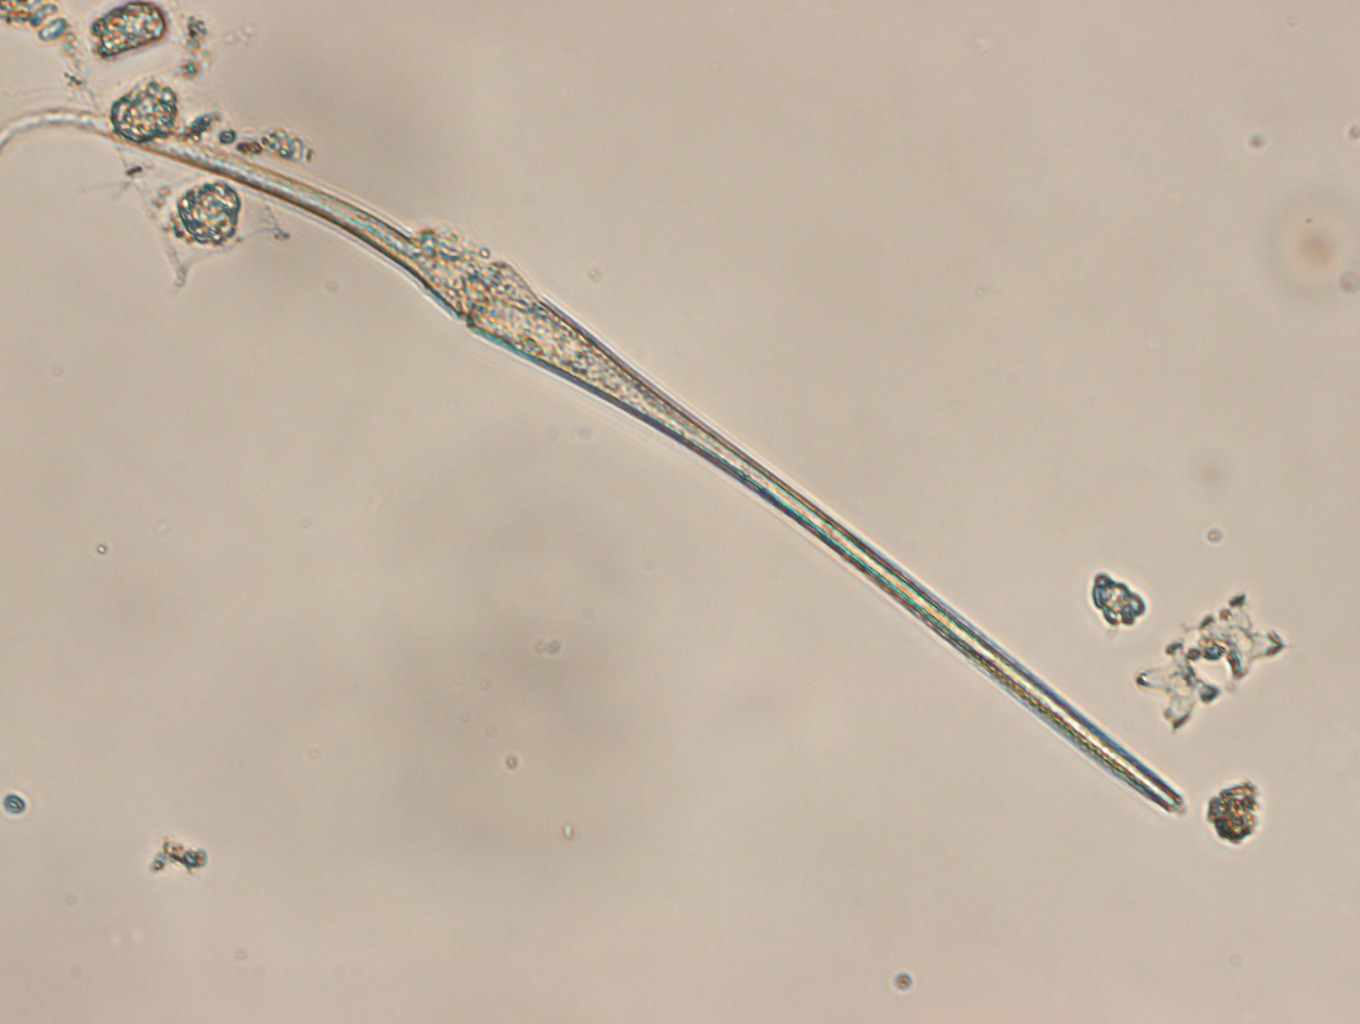ceratium fusus: (1, 105, 1188, 814)
chaetoceros: (18, 1, 302, 294)
